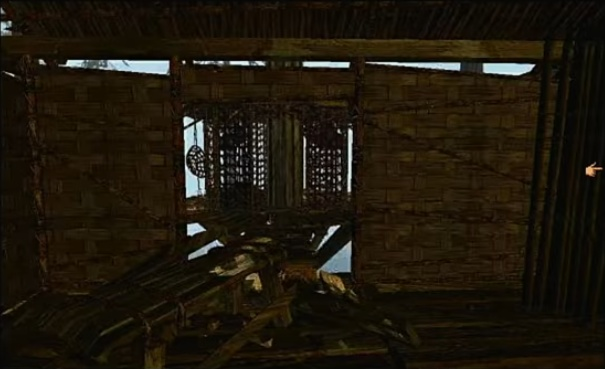Pointer: (583, 158, 604, 179)
